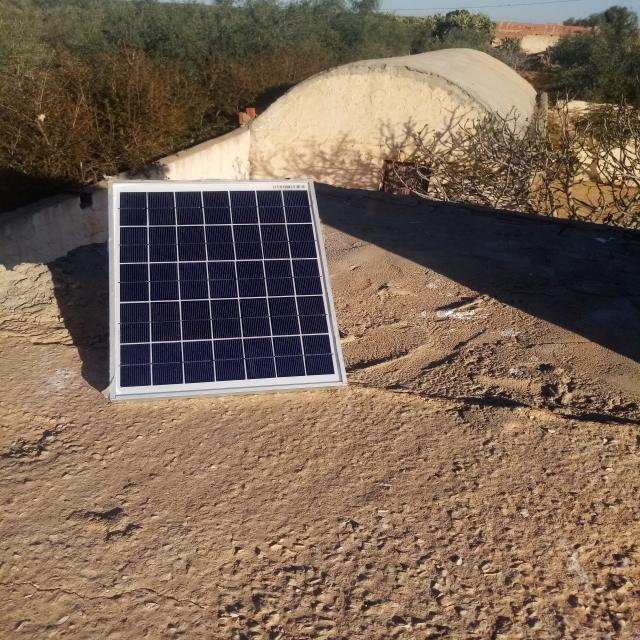Normal Solar Panel: (109, 179, 348, 401)
